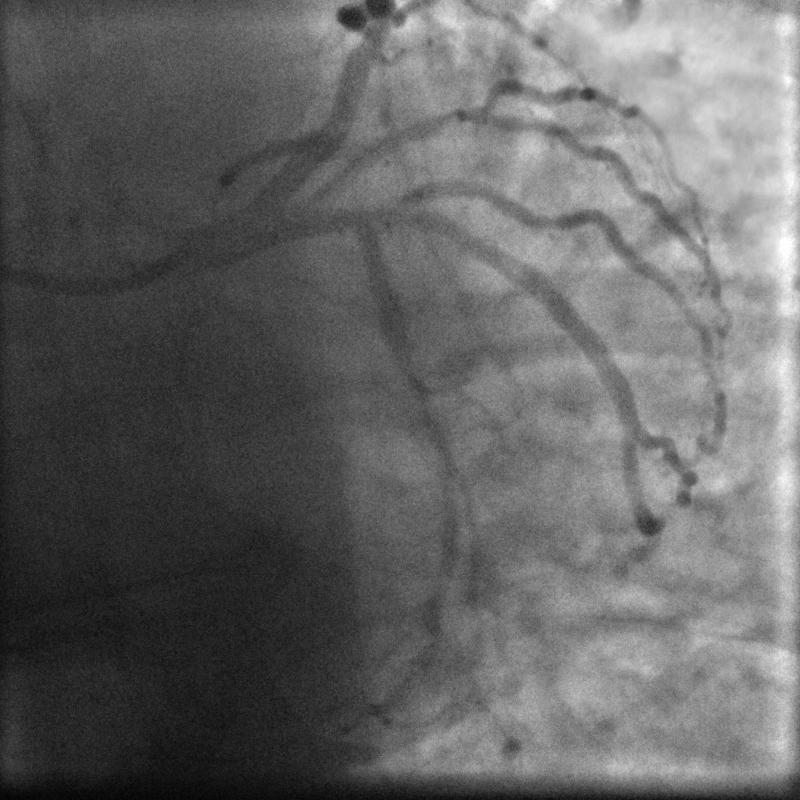Stenosis: (402, 359, 446, 462)
